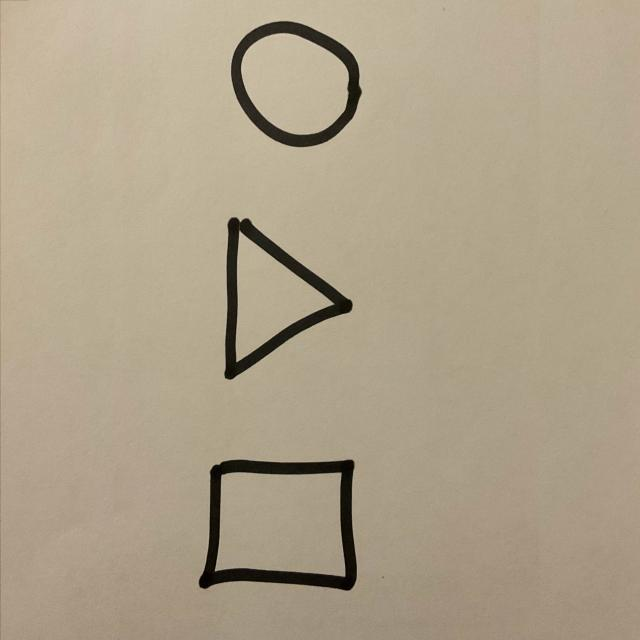Dreieck: (223, 218, 354, 383)
Kreis: (230, 21, 365, 151)
Quadrat: (197, 459, 358, 593)
